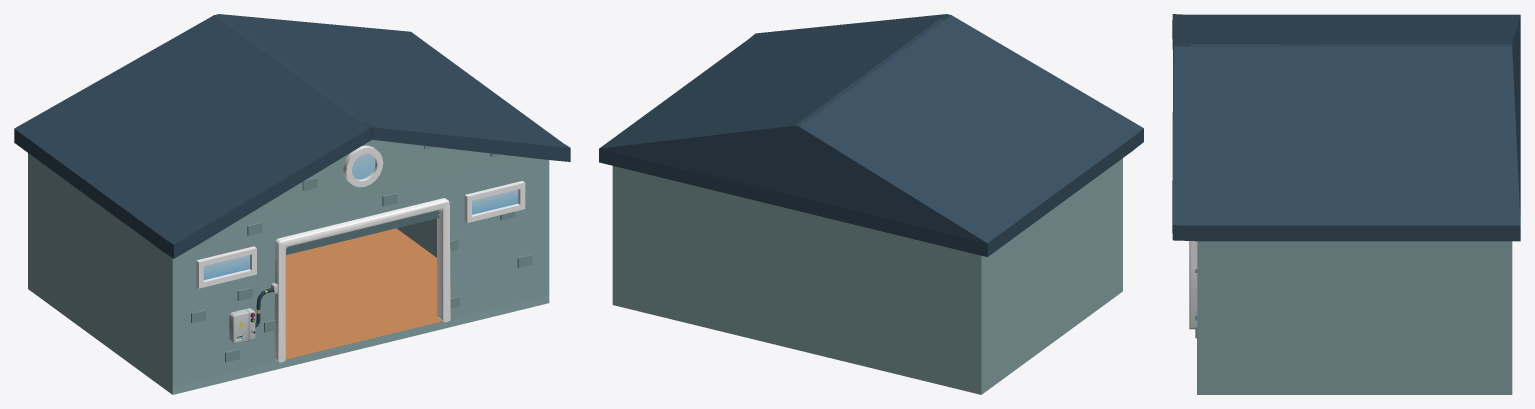
Rendered from GarageWithDoor.fbx.
3 renders of one model, left to right at view 1: azimuth 30°, elevation 25°; view 2: azimuth 150°, elevation 25°; view 3: azimuth 270°, elevation 25°, orthographic. The views are drawn at different scales.
Parts seen in each view (by area): view 1: Garage, Door, ElectricBox; view 2: Garage; view 3: Garage.
Part boxes in pixels (x1=…): Garage: x1=14, y1=14, x2=570, y2=394; Door: x1=286, y1=210, x2=439, y2=254; ElectricBox: x1=229, y1=308, x2=255, y2=343; Garage: x1=599, y1=14, x2=1143, y2=394; Garage: x1=1172, y1=14, x2=1520, y2=394.
Size of the model in its own units: 1553 by 856 by 1083.
